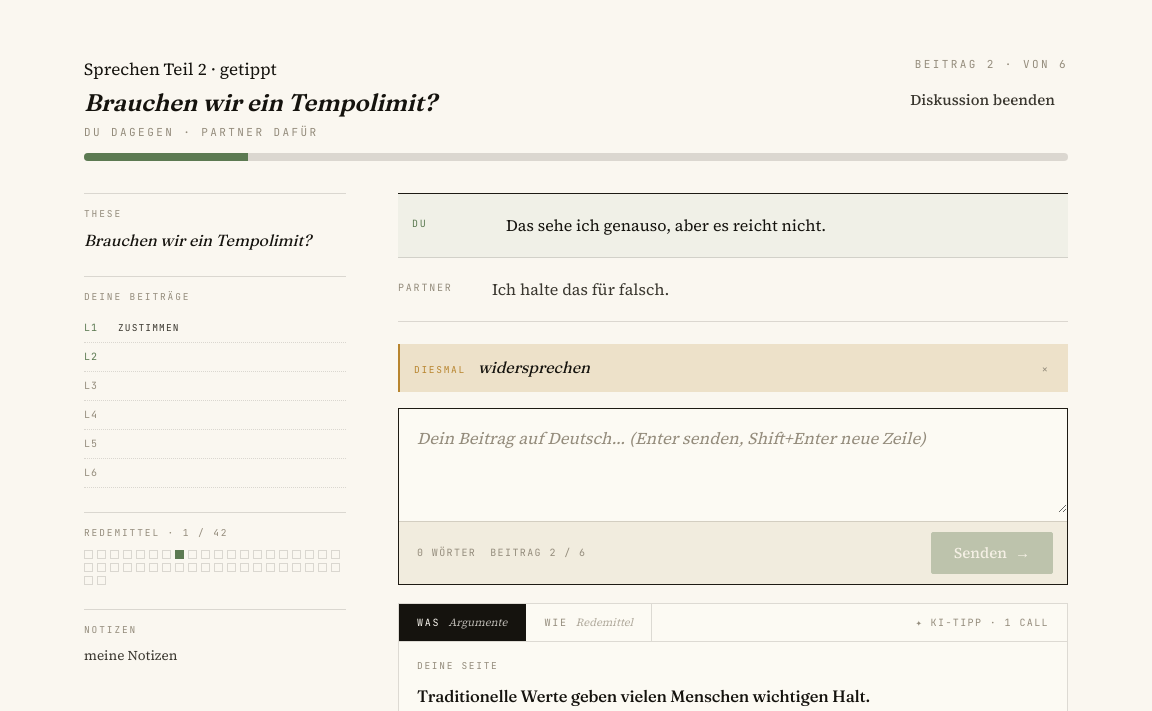
Test: Teil2Runner composer › warns under 25 words
The image size is (1152, 711).
Replace the text in the text box with "kurz": [733, 460] box [399, 408, 1067, 512]
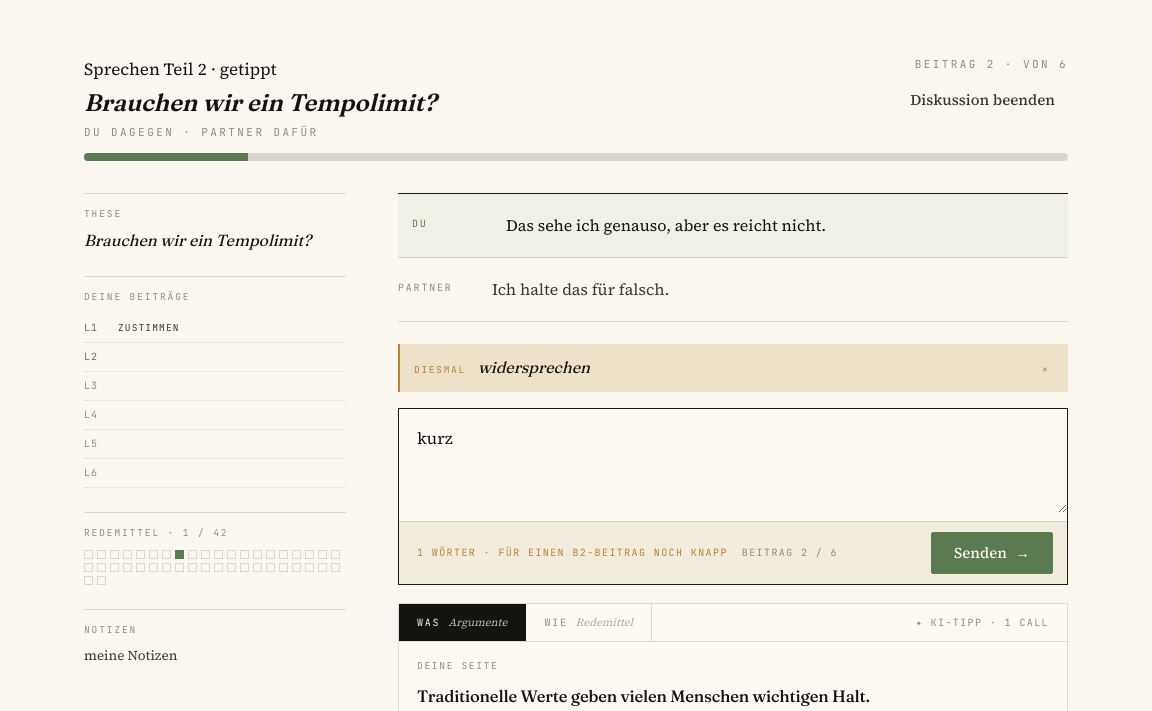
Result: the text "noch knapp" is shown at [476, 546, 728, 559]
